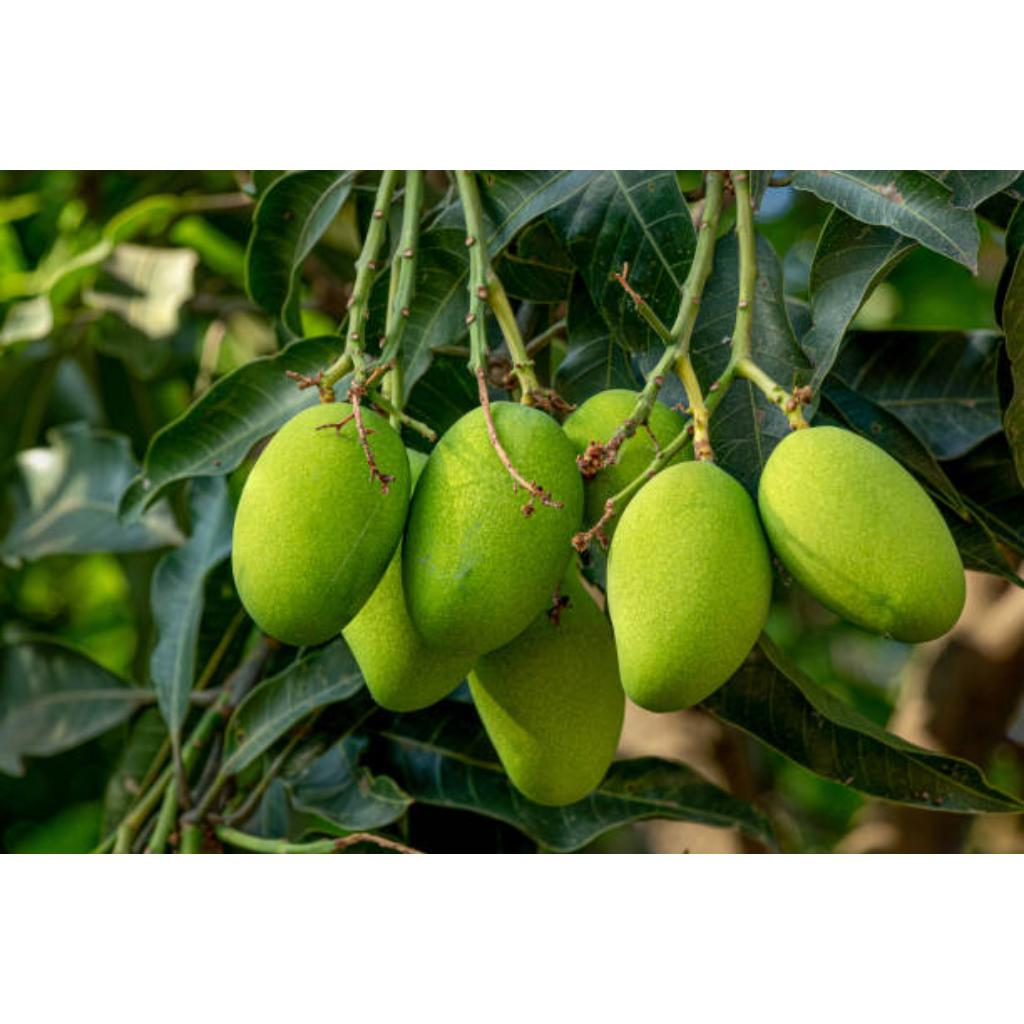mango: (402, 402, 584, 655), (758, 426, 966, 641), (232, 402, 410, 645), (608, 462, 772, 711), (468, 562, 624, 805), (342, 546, 476, 711)
